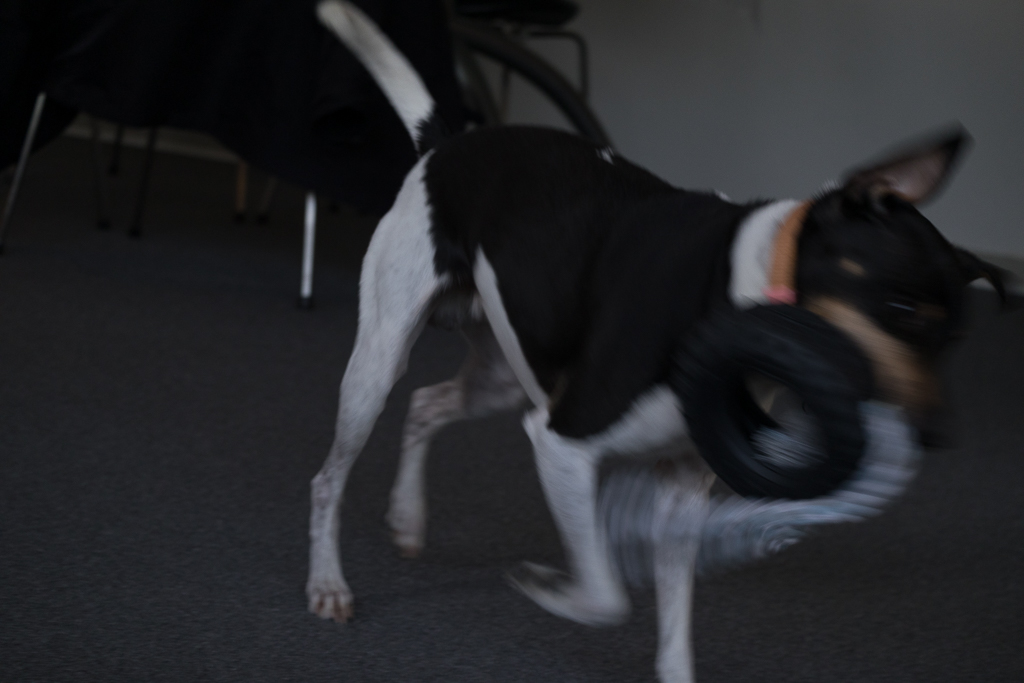Dog: (291, 0, 1024, 683)
